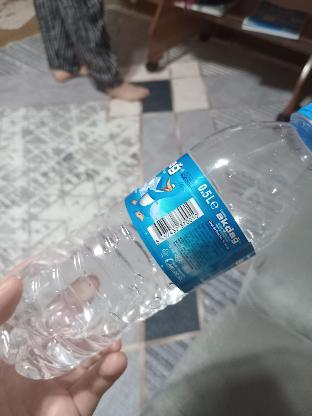Plastic Bottle: (0, 98, 312, 380)
